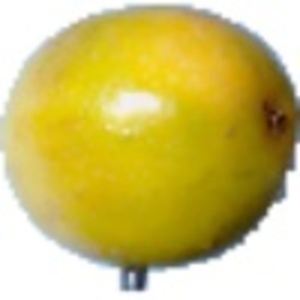maracujá: (1, 2, 300, 294)
